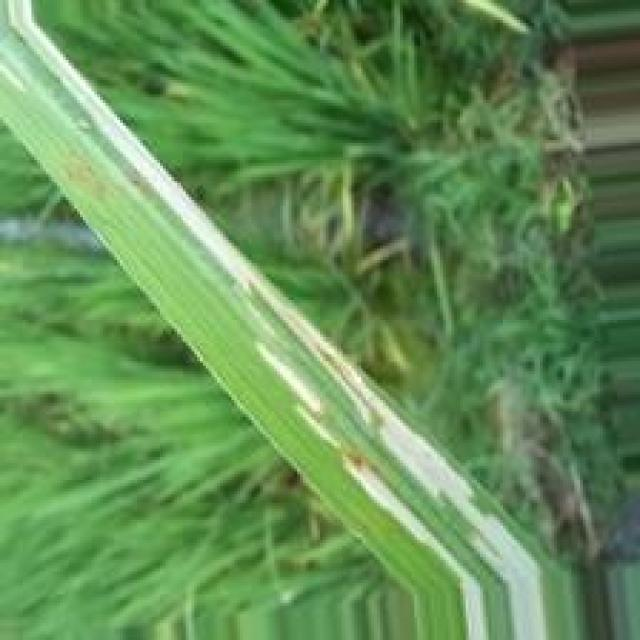Rice_Hispa: (1, 0, 554, 640), (339, 451, 493, 640), (251, 337, 320, 421), (299, 415, 331, 445)
